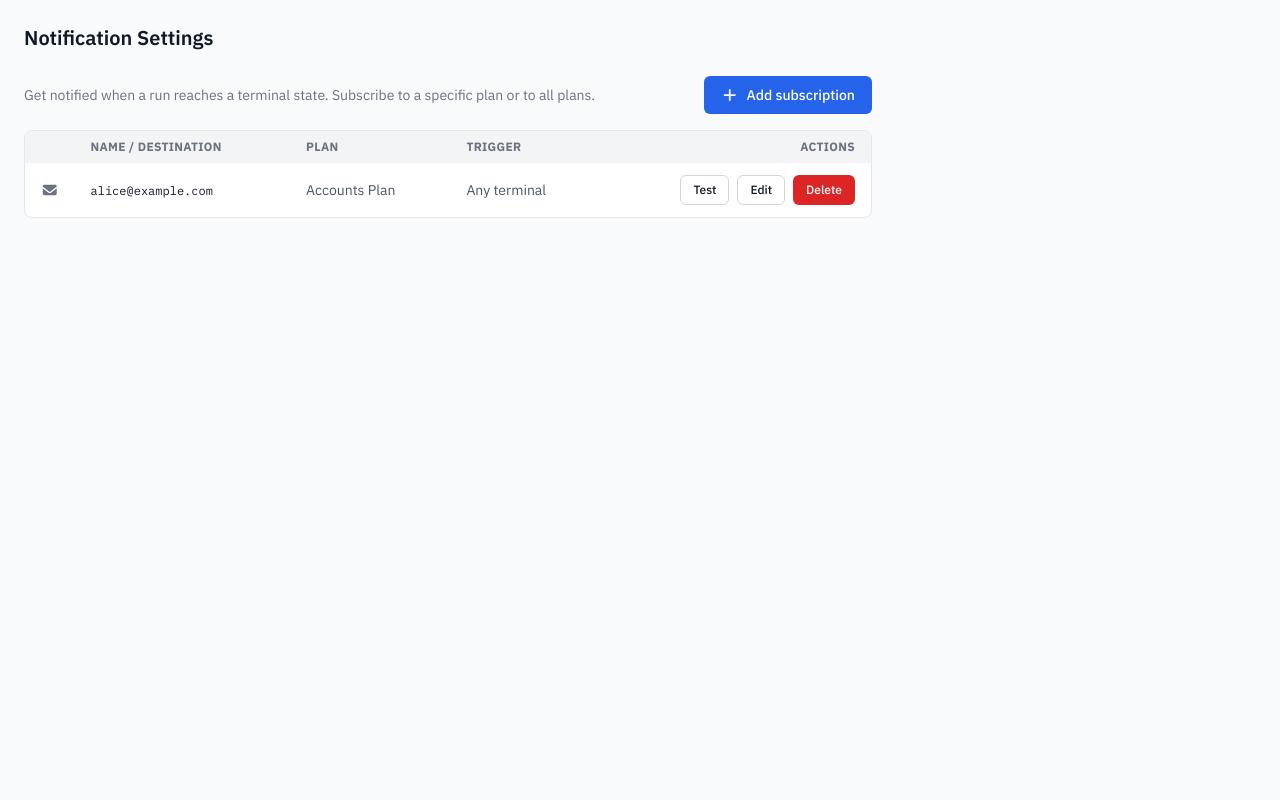
Notification Settings page › surfaces an error toast when the test-send fails
Click the button "Test": {"x": 705, "y": 190} [680,175,729,205]
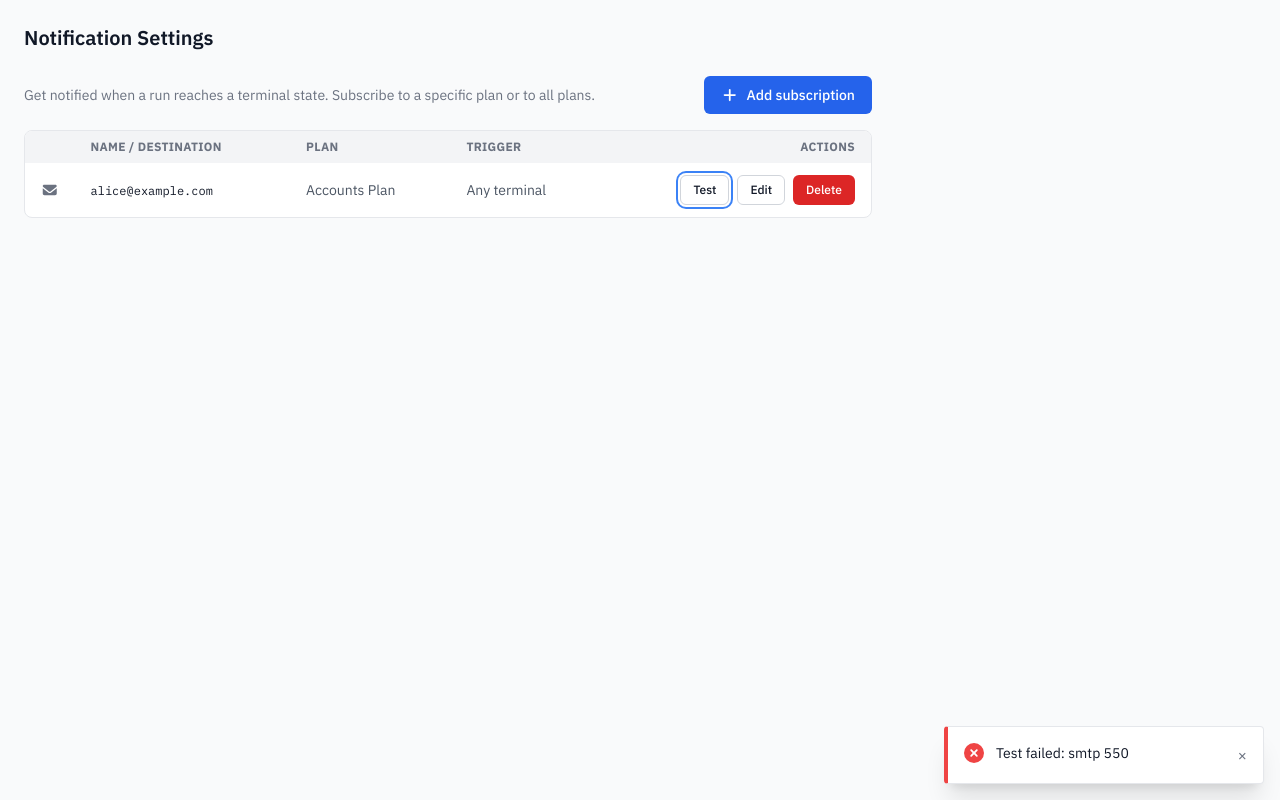
Result: the text "Test failed: smtp 550" is shown at [996,744,1129,762]
